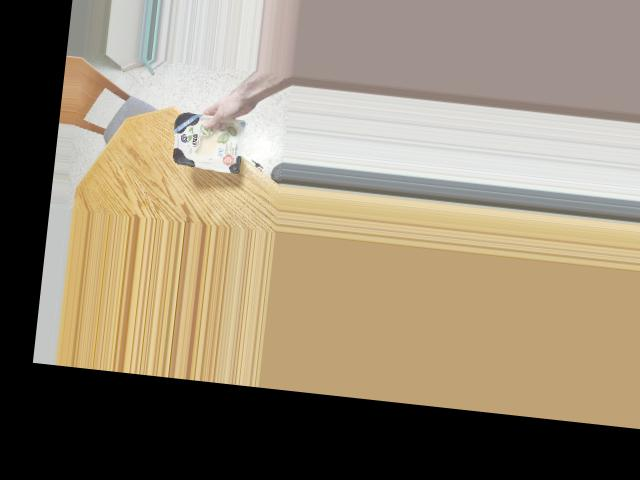cheese: (154, 107, 261, 175)
